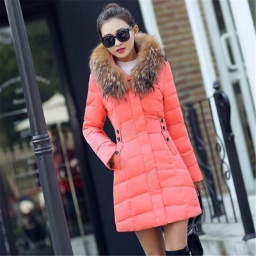face: (93, 3, 143, 57)
